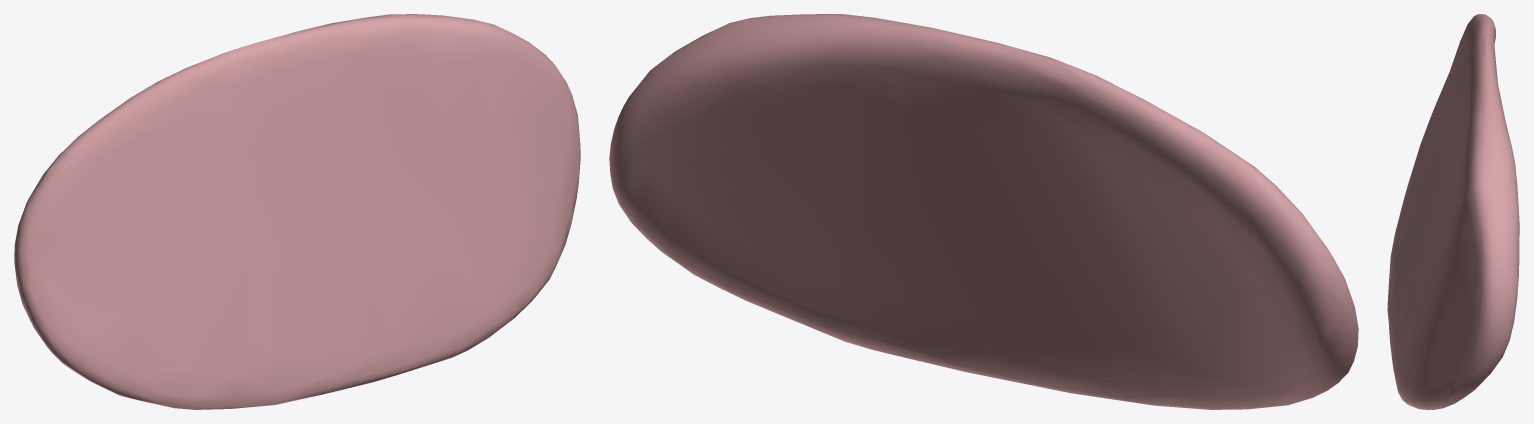
The model's file is fma74632_mm2204.glb.
The picture shows the model from 3 angles, left to right: view 1: azimuth 30°, elevation 25°; view 2: azimuth 150°, elevation 25°; view 3: azimuth 270°, elevation 25°; orthographic projection. The views are drawn at different scales.
Visible parts, largest first — view 1: FMA74632_MM2204; view 2: FMA74632_MM2204; view 3: FMA74632_MM2204.
Part boxes in pixels (x1,y1,x2,y2): FMA74632_MM2204: (14,14,580,409); FMA74632_MM2204: (609,14,1358,409); FMA74632_MM2204: (1387,14,1519,409).
Bounding box in the file's own units: 0.0126 × 0.00663 × 0.0028.
